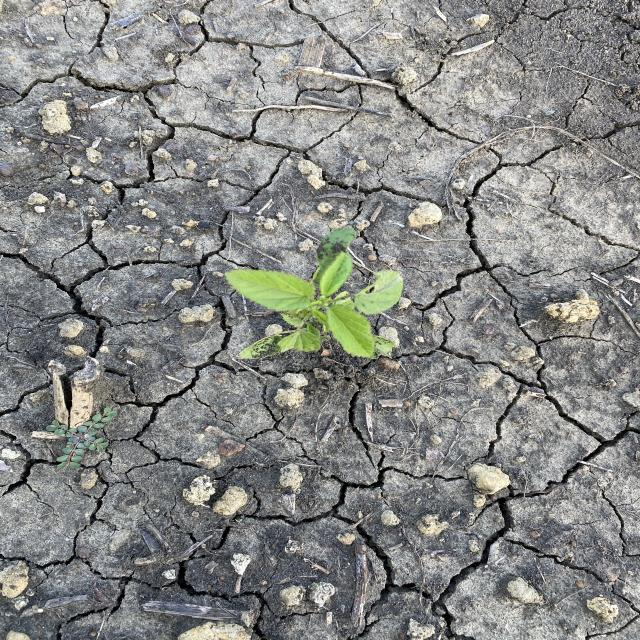PricklySida: (221, 222, 408, 364)
SpottedSpurge: (41, 404, 119, 472)
